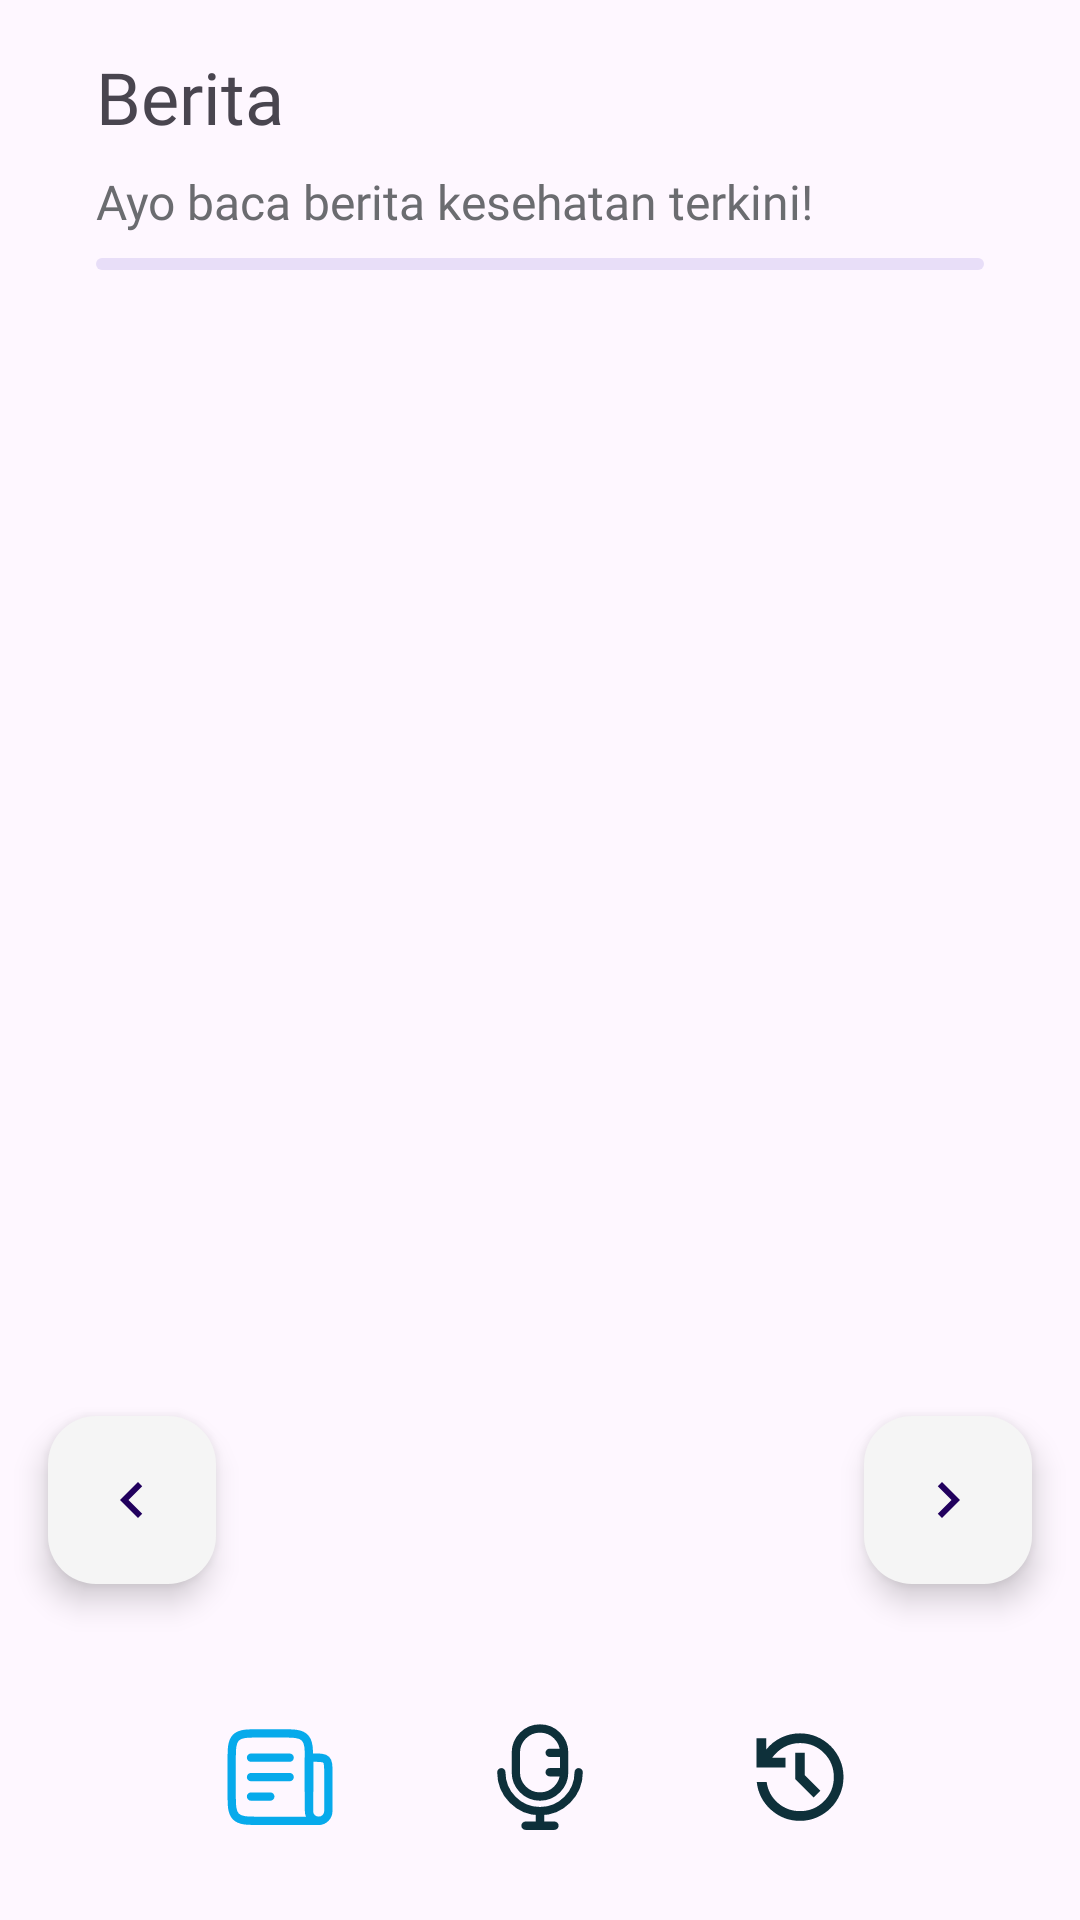

Icons on this 1080px x 1920px Android screen, each with its box as bbox=[x1, y1, x2, y2]:
Next: bbox=[871, 1482, 1032, 1584]
Previous: bbox=[48, 1482, 209, 1584]
